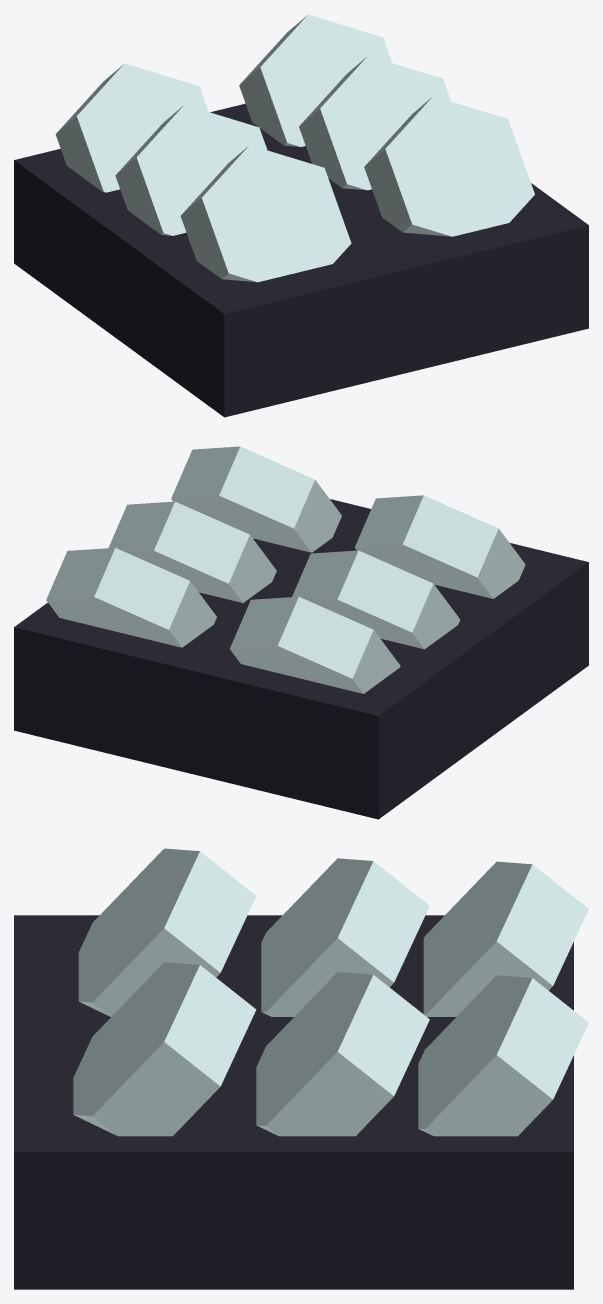
Rendered from Lenses.fbx.
3 renders of one model, top to bottom at view 1: azimuth 30°, elevation 25°; view 2: azimuth 150°, elevation 25°; view 3: azimuth 270°, elevation 25°, orthographic. The views are drawn at different scales.
Parts seen in each view (by area): view 1: Lenses; view 2: Lenses; view 3: Lenses.
Boxes of the visible parts, bbox=[...] form: Lenses: bbox=[14, 14, 588, 417]; Lenses: bbox=[14, 446, 588, 819]; Lenses: bbox=[14, 848, 588, 1289].
Bounding box in the file's own units: 72.54 × 74.5 × 38.45.
